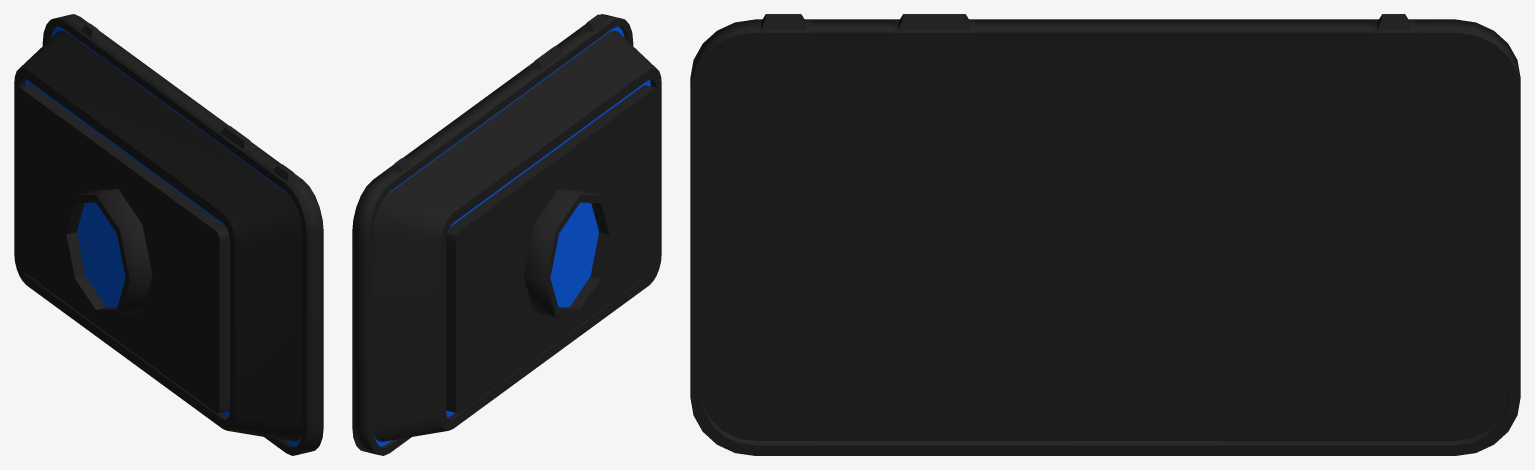
Rendered from LocalHyperCam.fbx.
3 renders of one model, left to right at view 1: azimuth 30°, elevation 25°; view 2: azimuth 150°, elevation 25°; view 3: azimuth 270°, elevation 25°, orthographic. The views are drawn at different scales.
Visible parts, largest first — view 1: LocalHyperCam; view 2: LocalHyperCam; view 3: LocalHyperCam.
Boxes of the visible parts, <box> form: LocalHyperCam: <box>14,14,323,455</box>; LocalHyperCam: <box>352,14,661,455</box>; LocalHyperCam: <box>690,14,1520,455</box>.
Bounding box in the file's own units: 40.22 × 111 × 192.
